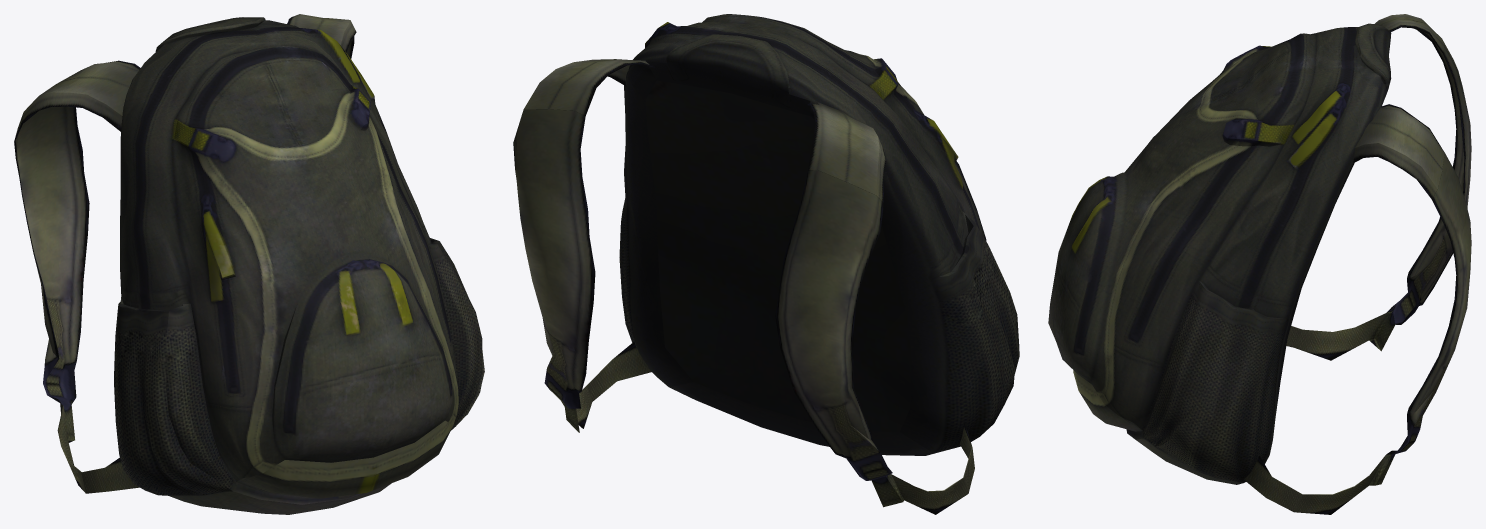
The model's file is Backpack 2.fbx.
3 views of the same model, side by side, from view 1: azimuth 30°, elevation 25°; view 2: azimuth 150°, elevation 25°; view 3: azimuth 270°, elevation 25° (orthographic). The views are drawn at different scales.
Visible parts, largest first — view 1: backpack 2; view 2: backpack 2; view 3: backpack 2.
Boxes of the visible parts, box(x1,y1,x2,y2) form: backpack 2: box(14, 14, 484, 514); backpack 2: box(513, 14, 1019, 514); backpack 2: box(1048, 14, 1471, 514).
Bounding box in the file's own units: 34.28 × 40.3 × 36.96.
1 material, 1 textured.
